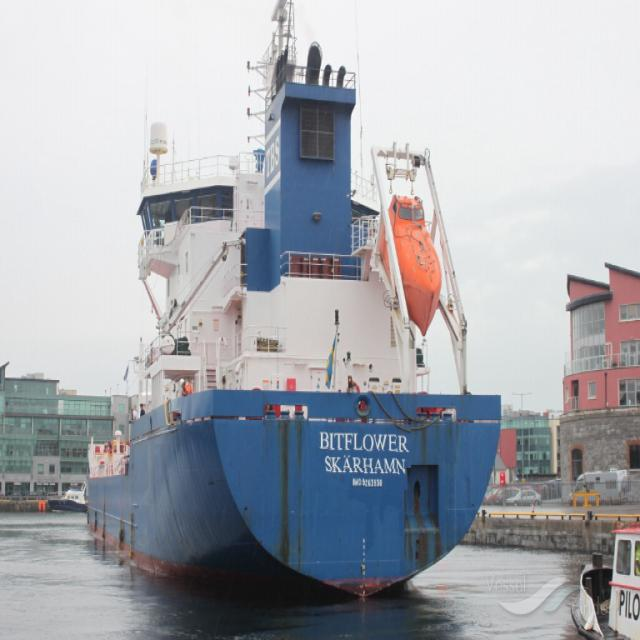OCR: (310, 418, 411, 490)
